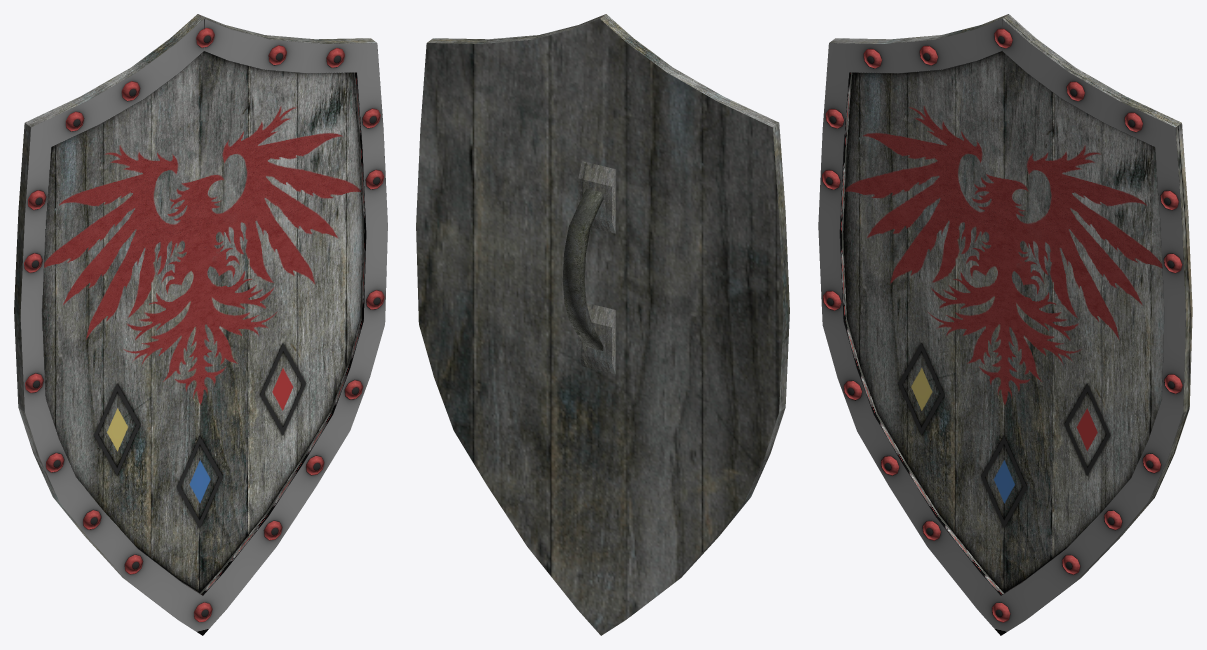
The model's file is shield.glb.
3 views of the same model, side by side, from view 1: azimuth 30°, elevation 25°; view 2: azimuth 150°, elevation 25°; view 3: azimuth 330°, elevation 25° (orthographic).
Visible parts, largest first — view 1: Plane; view 2: Plane; view 3: Plane.
Part boxes in pixels (<box>): Plane: <box>14,14,387,635</box>; Plane: <box>416,14,789,635</box>; Plane: <box>818,14,1192,635</box>.
Size of the model in its own units: 2.41 by 3.86 by 0.4057.
Materials: 1 (1 with a texture image).
